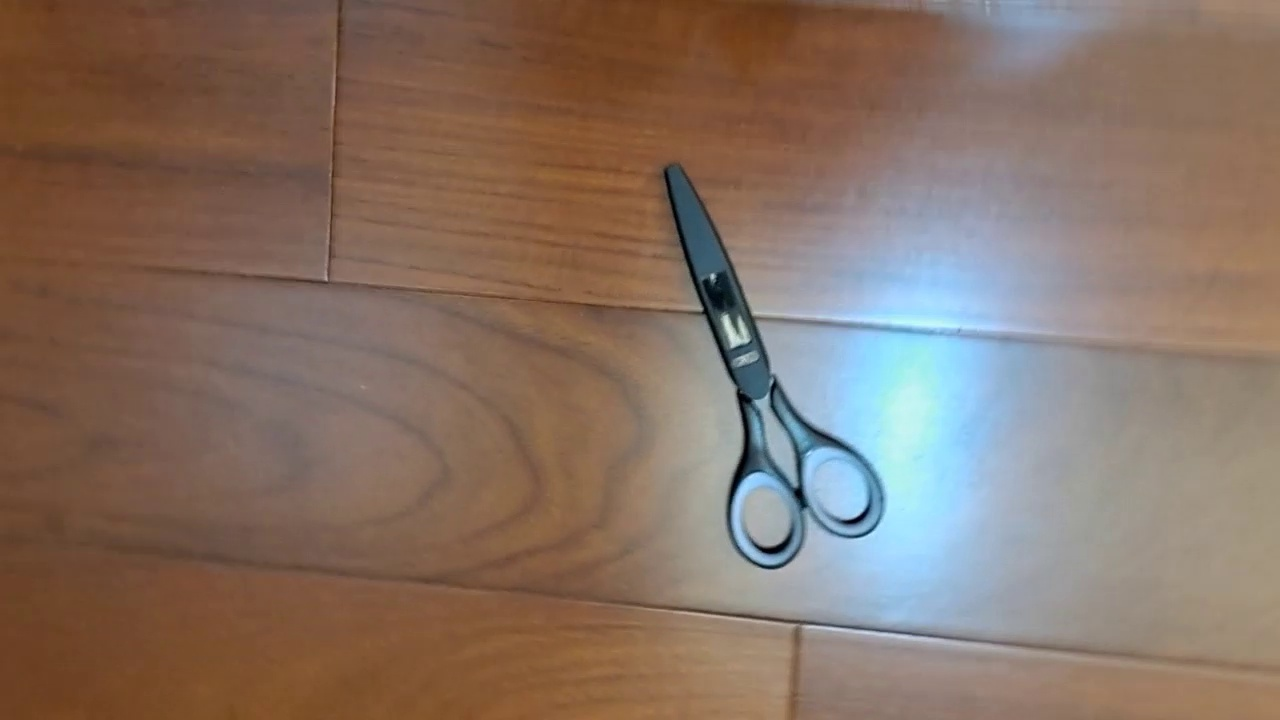scissors: (661, 159, 887, 570)
